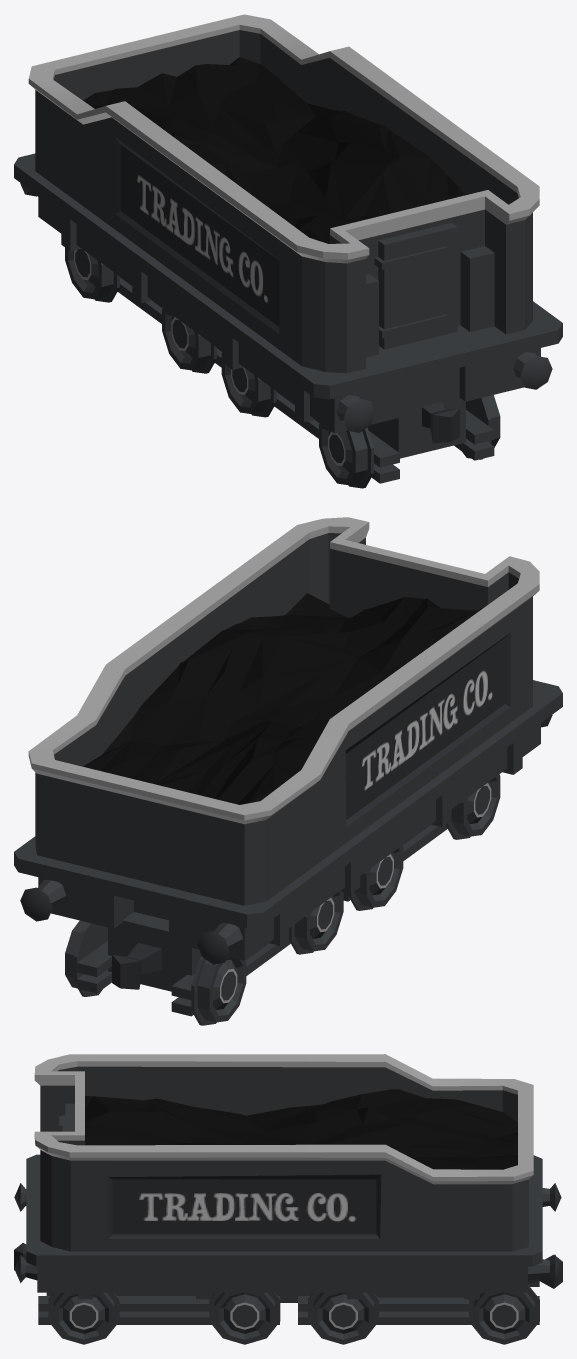
The model's file is SM_Veh_Train_Coal_01.fbx.
3 renders of one model, top to bottom at view 1: azimuth 30°, elevation 25°; view 2: azimuth 150°, elevation 25°; view 3: azimuth 270°, elevation 25°, orthographic. The views are drawn at different scales.
Visible parts, largest first — view 1: SM_Veh_Train_Coal_01; view 2: SM_Veh_Train_Coal_01; view 3: SM_Veh_Train_Coal_01.
Part boxes in pixels (x1,y1,x2,y2): SM_Veh_Train_Coal_01: [14, 14, 562, 488]; SM_Veh_Train_Coal_01: [14, 517, 562, 1025]; SM_Veh_Train_Coal_01: [14, 1054, 562, 1344].
Size of the model in its own units: 328 by 330 by 756.
